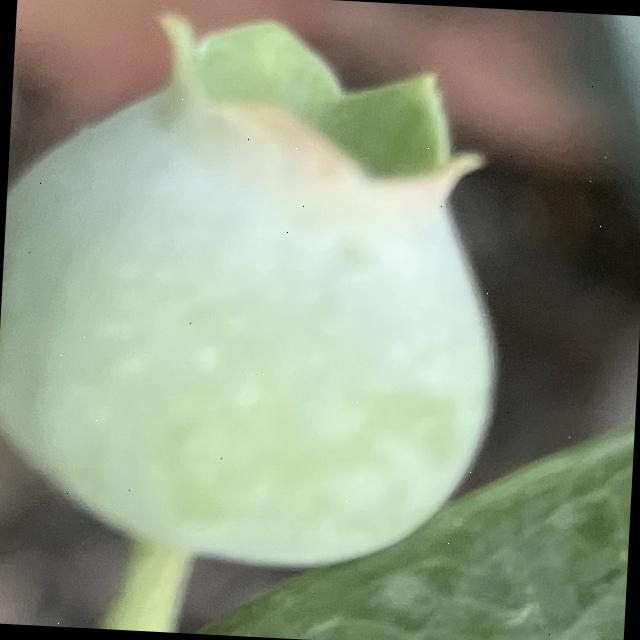Blueberries: (0, 0, 527, 615)
